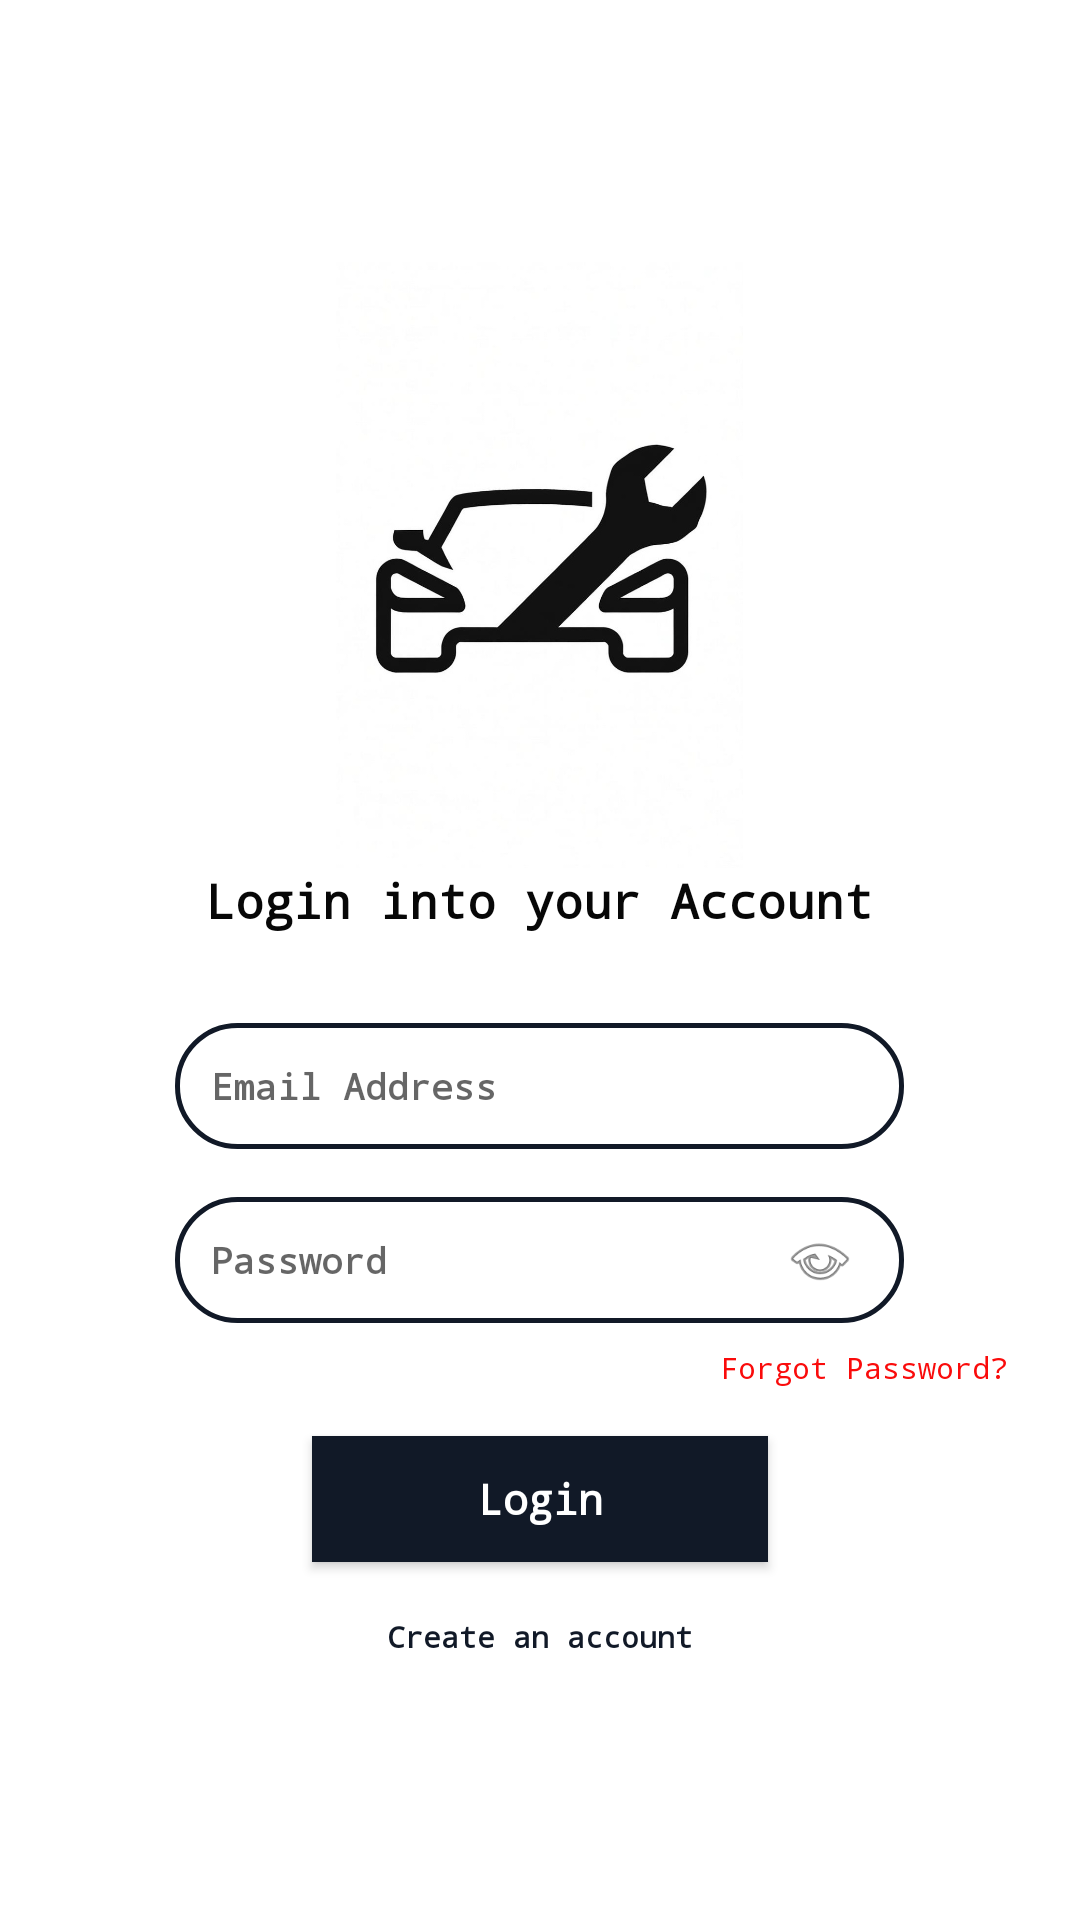

Screen size 1080 × 1920. Icon name, then its box in pixels as bbox=(x1, y1, x2, y2):
view: bbox=(791, 1243, 849, 1280)
